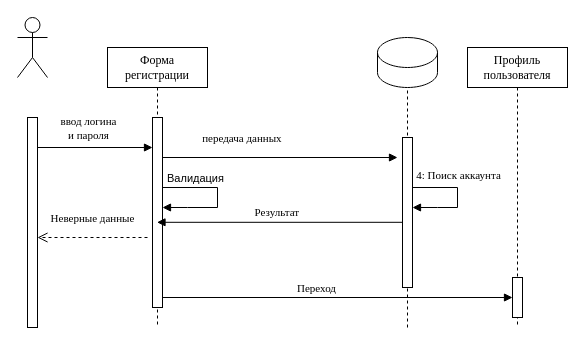
Image size: 585x346. Some labels were removed from this diagram. Each missing label, with the centre of its shape:
БД: [407,62]
Гость: [32,47]
